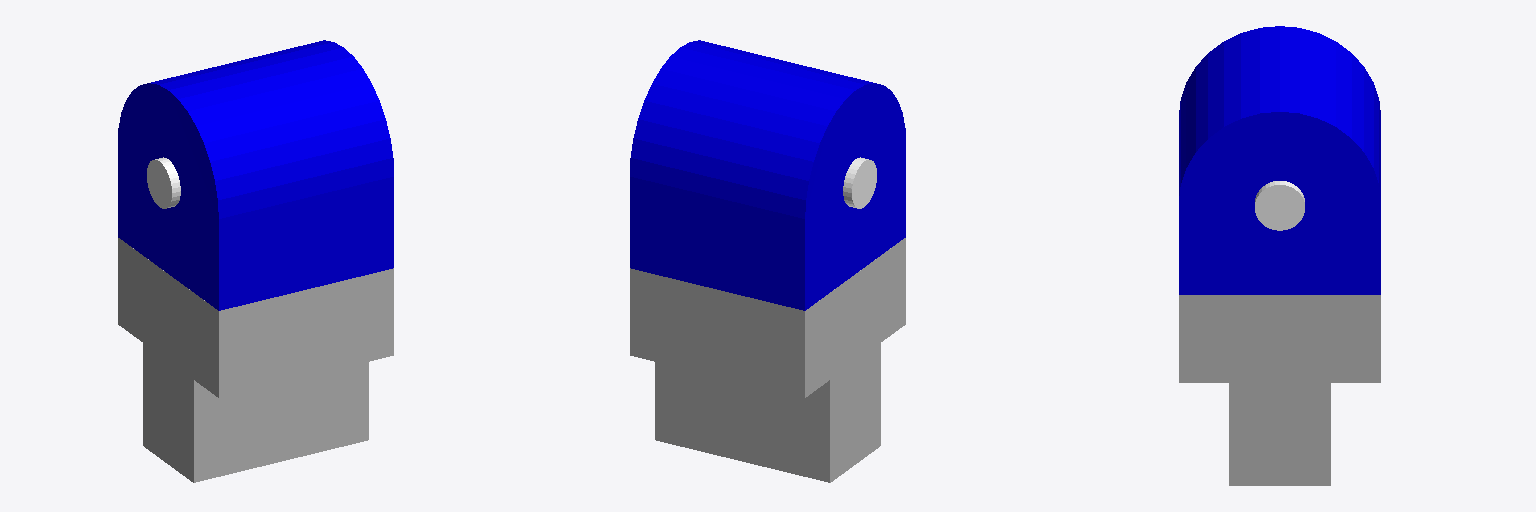
The picture shows the model from 3 angles: view 1: azimuth 30°, elevation 25°; view 2: azimuth 150°, elevation 25°; view 3: azimuth 270°, elevation 25°; orthographic projection.
Visible parts, largest first — view 1: body_r_prox_pinvpin_Cube.018; view 2: body_r_prox_pinvpin_Cube.018; view 3: body_r_prox_pinvpin_Cube.018.
Part boxes in pixels (left/top/right/bottom): body_r_prox_pinvpin_Cube.018: left=118, top=40, right=393, bottom=482; body_r_prox_pinvpin_Cube.018: left=630, top=40, right=905, bottom=482; body_r_prox_pinvpin_Cube.018: left=1179, top=26, right=1380, bottom=485.
Bounding box in the file's own units: 0.022 × 0.0408 × 0.02.
Materials: 2 (1 with a texture image).